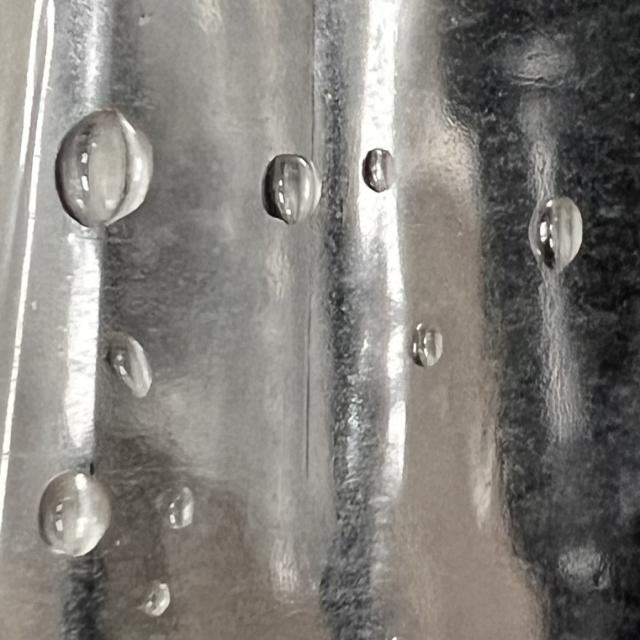raindrop: (49, 102, 156, 234), (34, 460, 122, 557), (512, 183, 590, 281), (256, 148, 332, 228), (105, 325, 162, 400), (408, 302, 458, 382), (356, 142, 392, 208), (153, 486, 195, 538), (133, 580, 182, 619)
